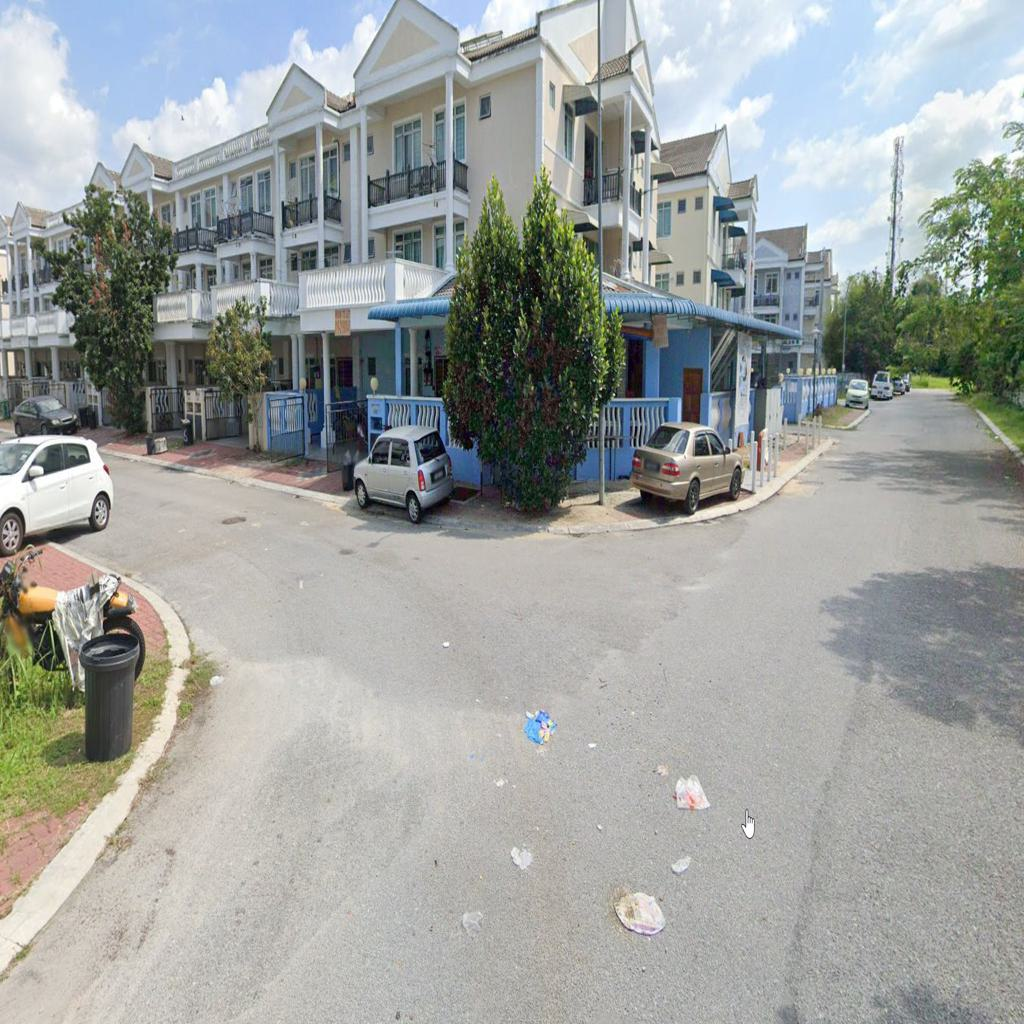Junction: (53, 460, 631, 821)
